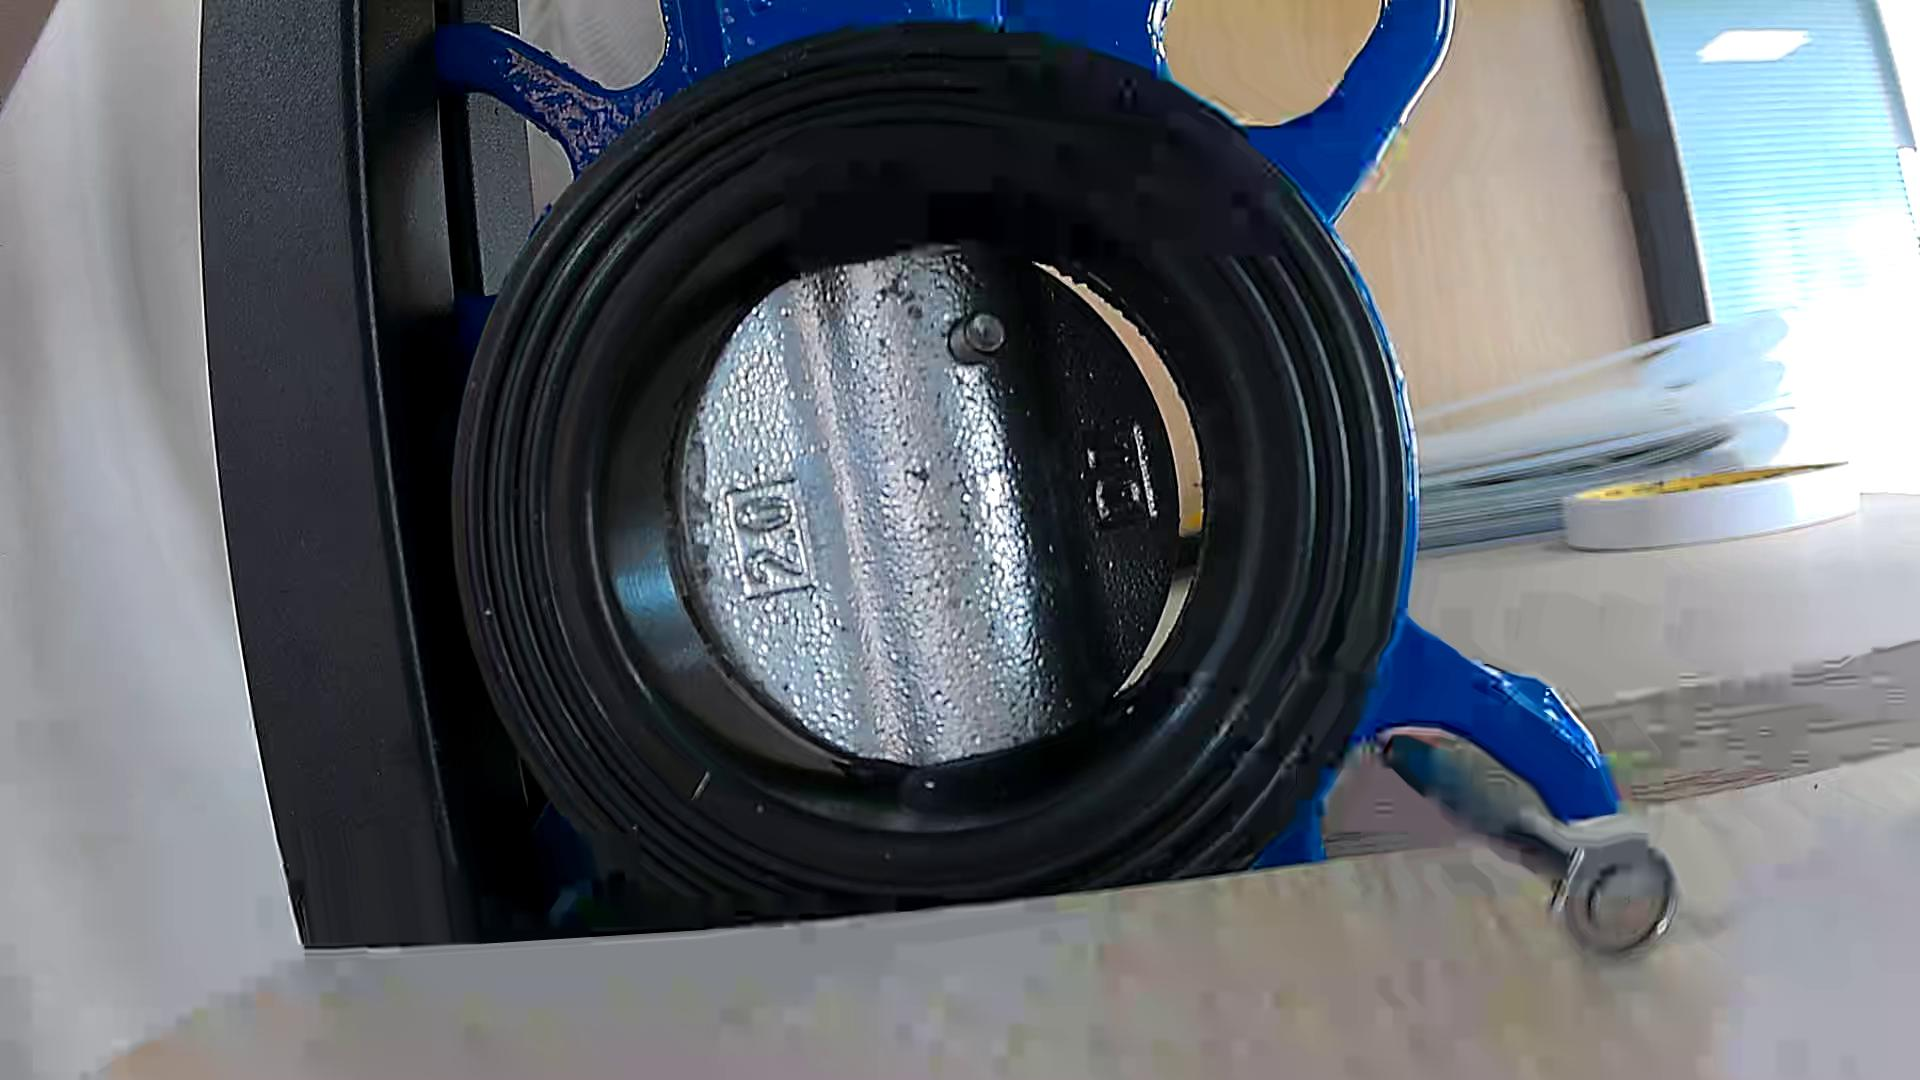valve: (679, 248, 1180, 765)
